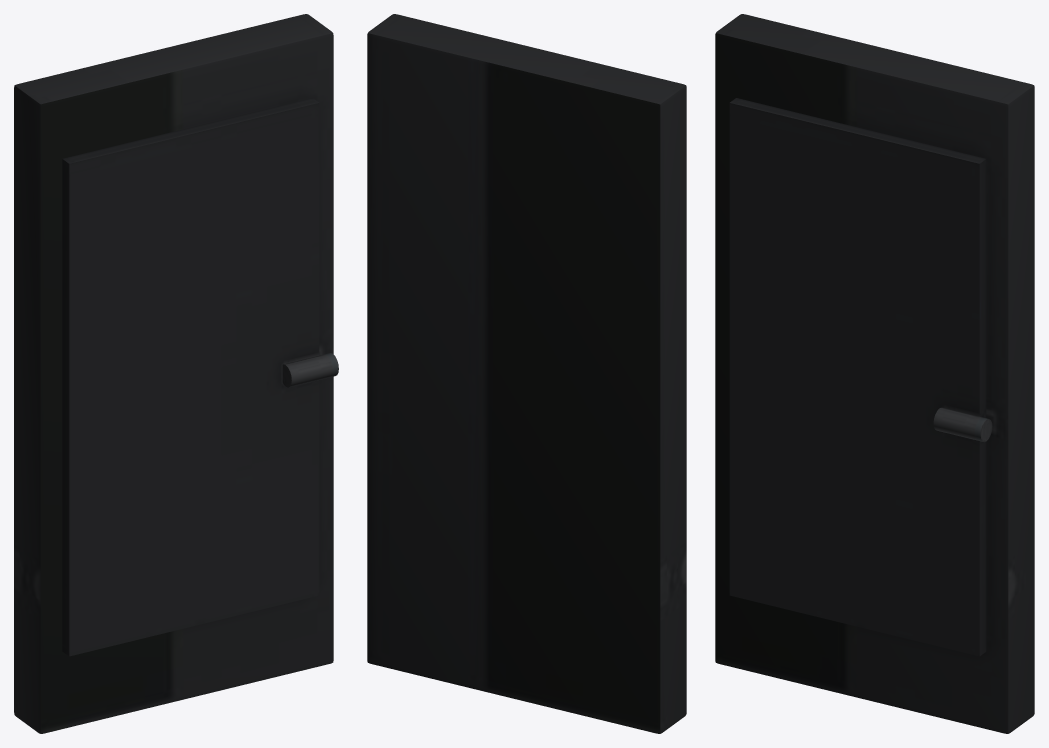
File: BD_door_armored.glb
3 views of the same model, side by side, from view 1: azimuth 30°, elevation 25°; view 2: azimuth 150°, elevation 25°; view 3: azimuth 330°, elevation 25° (orthographic).
Parts seen in each view (by area): view 1: BD_door_armored; view 2: BD_door_armored; view 3: BD_door_armored.
Part boxes in pixels (x1,y1,x2,y2): BD_door_armored: (14,14,338,733); BD_door_armored: (367,14,686,733); BD_door_armored: (715,14,1034,733).
Bounding box in the file's own units: 1 × 2.05 × 0.255.
Materials: 1 (1 with a texture image).
